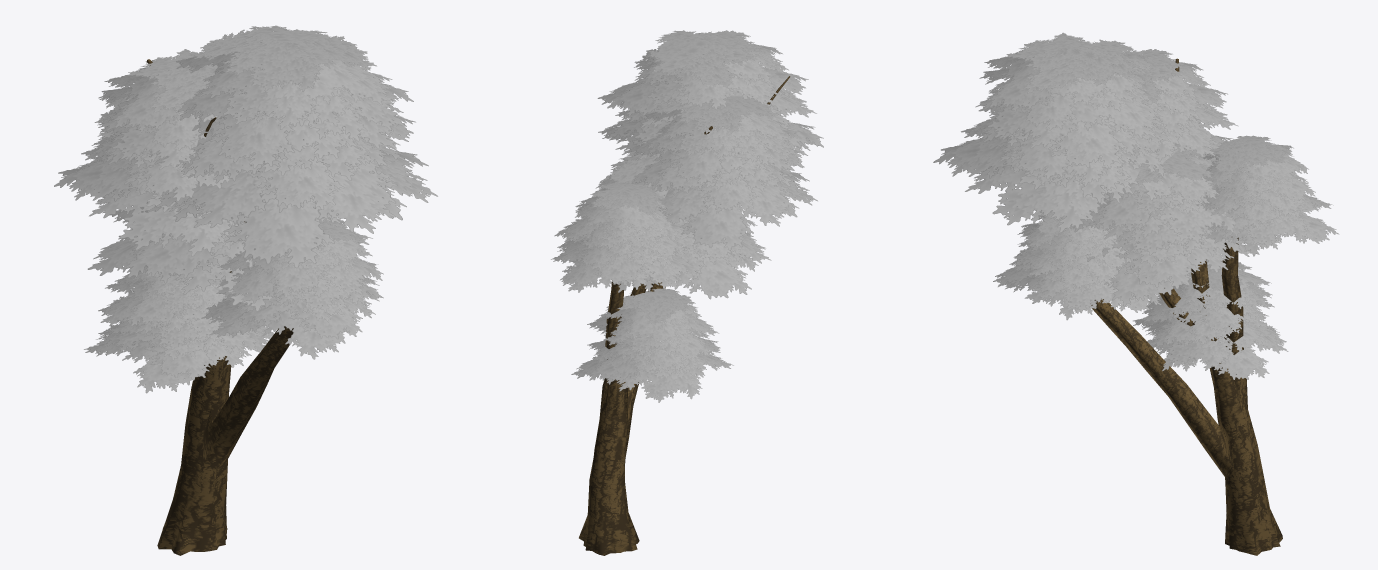
File: treeOak03.fbx
3 renders of one model, left to right at view 1: azimuth 30°, elevation 25°; view 2: azimuth 150°, elevation 25°; view 3: azimuth 270°, elevation 25°, orthographic. The views are drawn at different scales.
Parts seen in each view (by area): view 1: leaves_Clone___5_, Mesh; view 2: leaves_Clone___5_, Mesh; view 3: leaves_Clone___5_, Mesh.
Boxes of the visible parts, bbox=[...] form: leaves_Clone___5_: bbox=[54, 25, 437, 393]; Mesh: bbox=[146, 59, 293, 555]; leaves_Clone___5_: bbox=[551, 30, 823, 402]; Mesh: bbox=[579, 76, 790, 555]; leaves_Clone___5_: bbox=[933, 32, 1339, 379]; Mesh: bbox=[1091, 58, 1282, 555].
Size of the model in its own units: 544 by 752 by 658.
